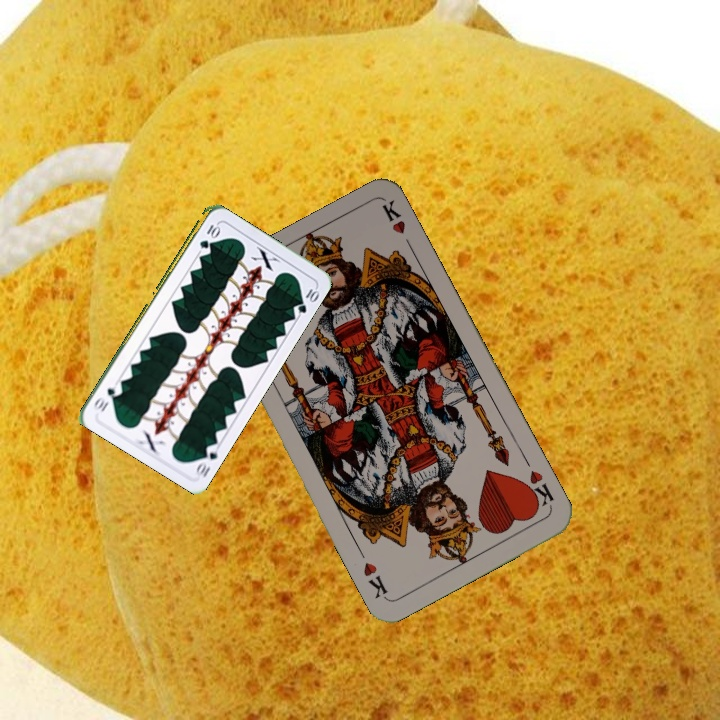G10: (191, 440, 222, 480), (195, 220, 221, 251)
HK: (519, 466, 556, 512)
